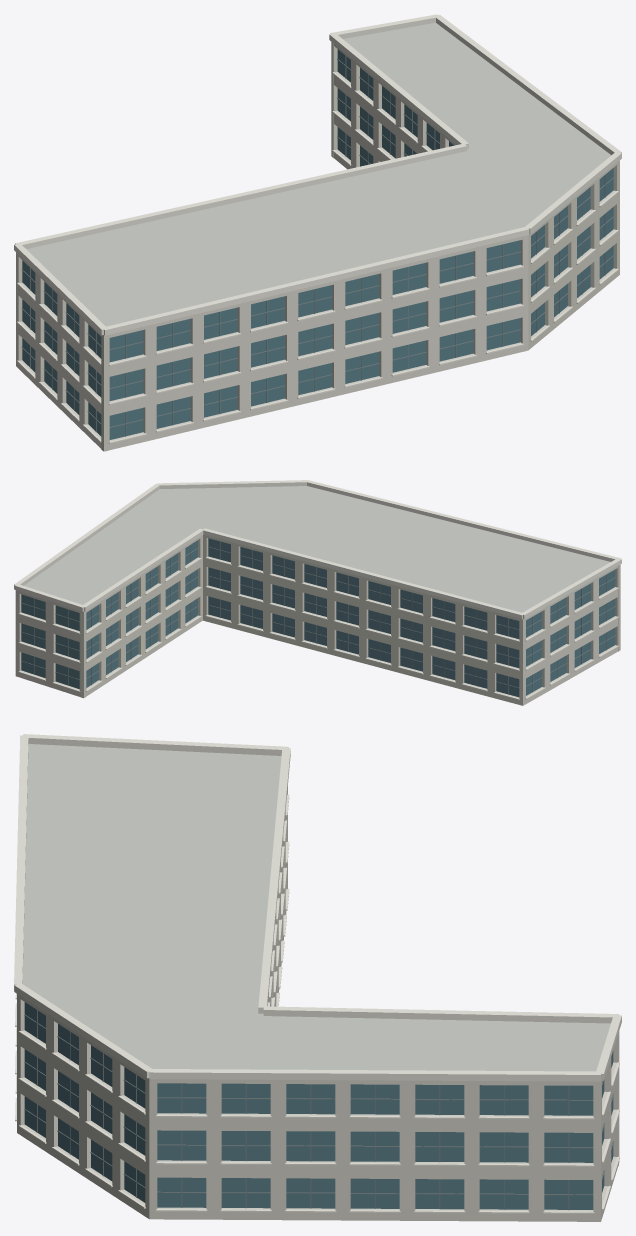
3 views of the same model, one above another, from view 1: azimuth 30°, elevation 25°; view 2: azimuth 150°, elevation 25°; view 3: azimuth 270°, elevation 25° (orthographic). The views are drawn at different scales.
Visible parts, largest first — view 1: roof, wall, glass, trim, metal; view 2: roof, wall, glass, trim, metal; view 3: roof, wall, glass, trim, metal.
Boxes of the visible parts, bbox=[...] form: roof: bbox=[26, 22, 611, 326]; wall: bbox=[16, 42, 619, 451]; glass: bbox=[22, 49, 613, 439]; trim: bbox=[14, 14, 621, 443]; metal: bbox=[21, 55, 614, 436]; roof: bbox=[24, 486, 610, 612]; wall: bbox=[15, 534, 620, 705]; glass: bbox=[21, 538, 615, 697]; trim: bbox=[14, 480, 621, 699]; metal: bbox=[21, 541, 615, 694]; roof: bbox=[22, 744, 610, 1071]; wall: bbox=[17, 786, 619, 1221]; glass: bbox=[24, 1002, 613, 1209]; trim: bbox=[14, 734, 621, 1213]; metal: bbox=[24, 1010, 613, 1210].
Bounding box in the file's own units: 48.08 × 9.74 × 36.23.
